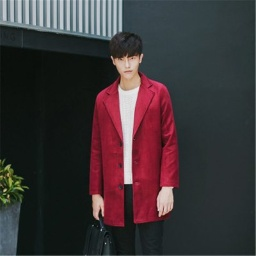face: (109, 32, 143, 79)
